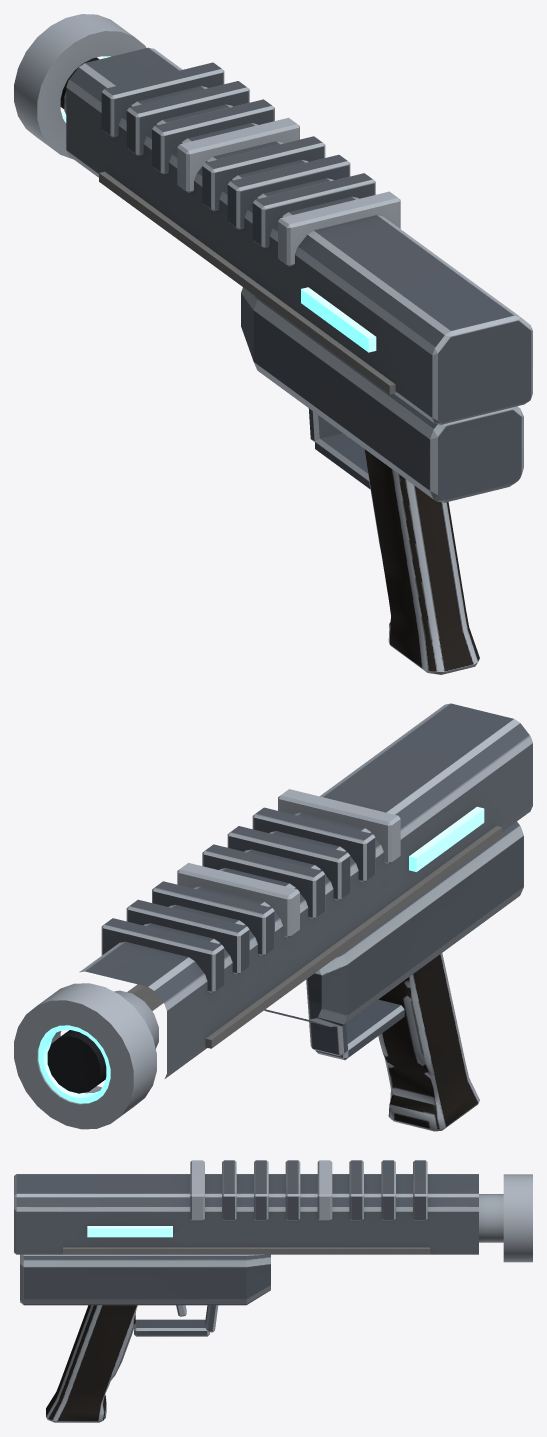
3 views of the same model, one above another, from view 1: azimuth 30°, elevation 25°; view 2: azimuth 150°, elevation 25°; view 3: azimuth 270°, elevation 25° (orthographic). The views are drawn at different scales.
Visible parts, largest first — view 1: body; view 2: body; view 3: body.
Boxes of the visible parts, x1,y1,x2,y2 form: body: (14,14,532,674); body: (14,703,532,1131); body: (14,1160,532,1422).
Size of the model in its own units: 0.0714 by 0.214 by 0.424.
1 material, 1 textured.
